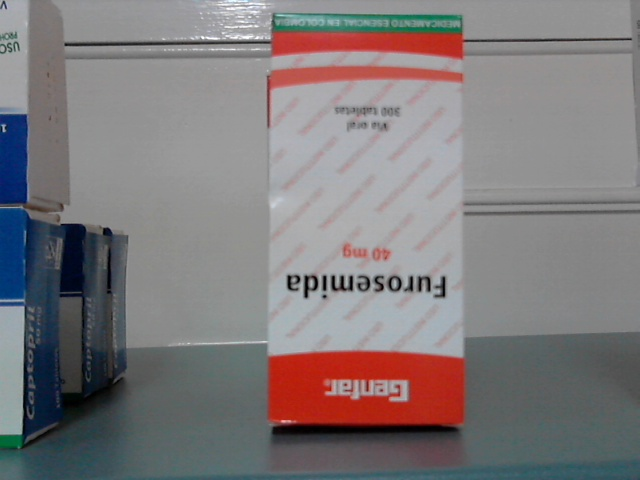Genfar: (271, 16, 464, 425)
